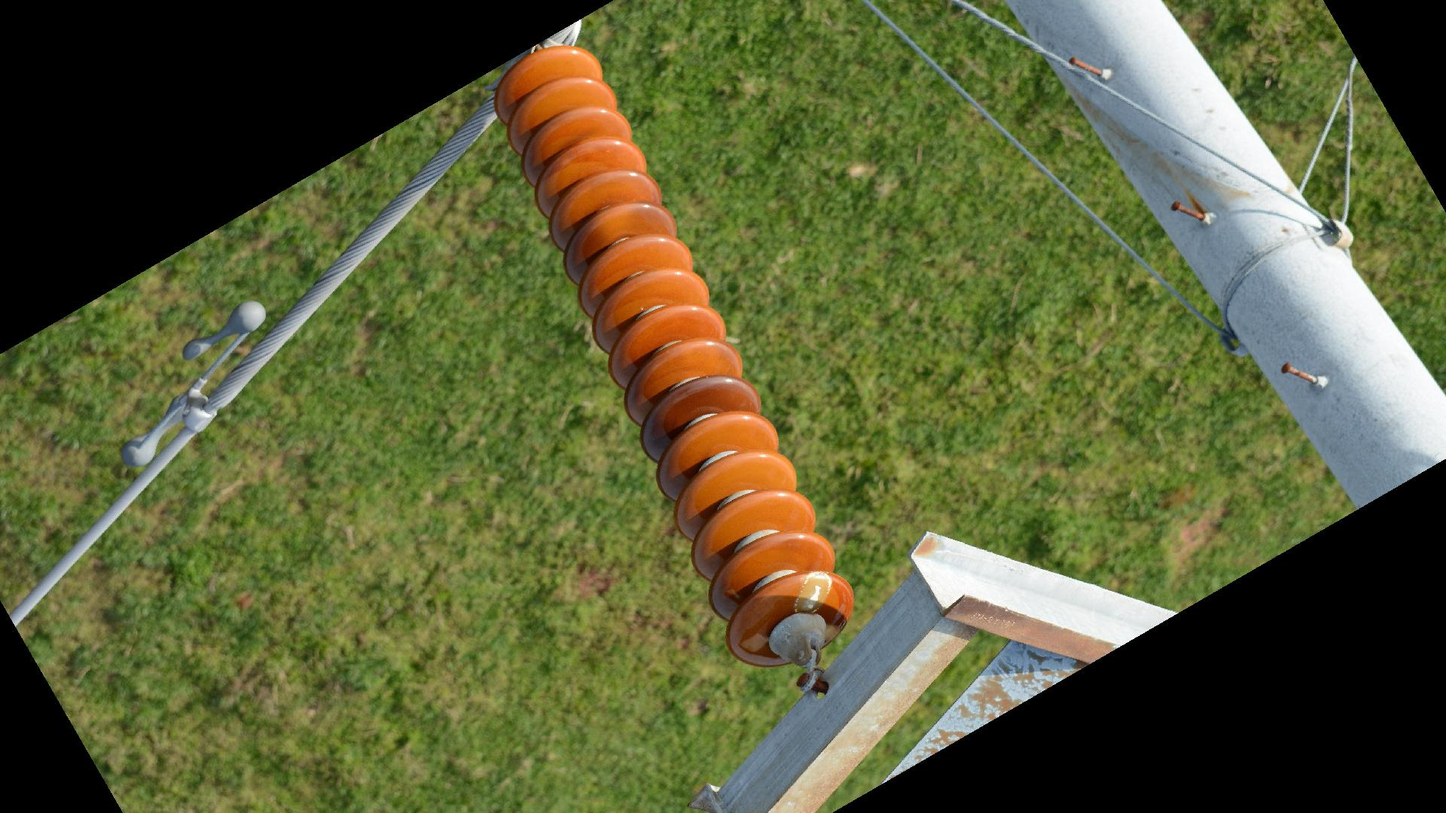insulator: (491, 38, 859, 671)
insulator_flashover: (792, 570, 834, 615)
